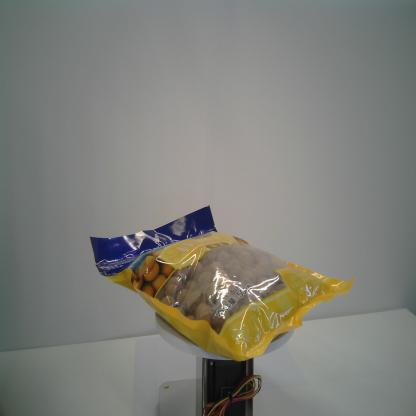Dried Food: (89, 203, 356, 361)
